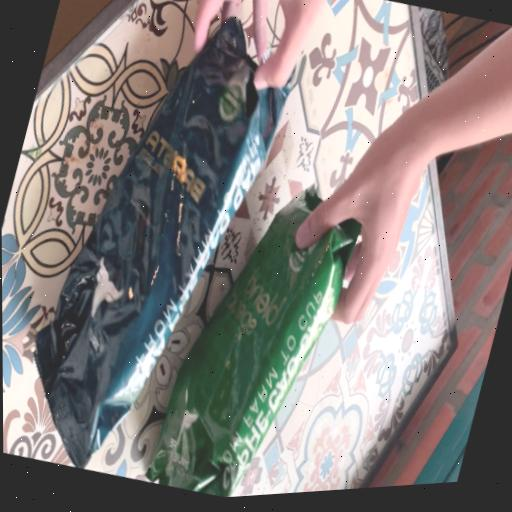cafe_hat: (33, 17, 291, 468)
cafe_xay: (144, 187, 359, 497)
